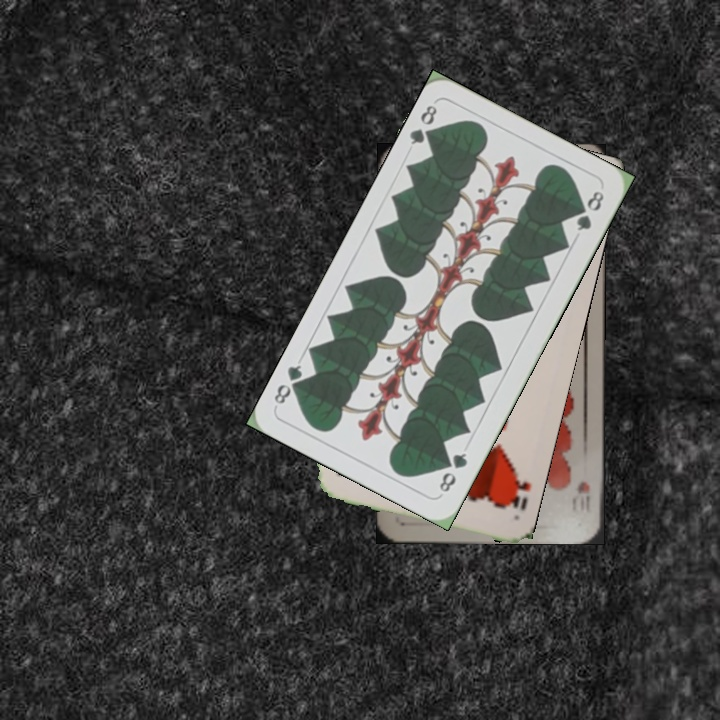G8: (405, 100, 441, 148), (435, 448, 470, 495)
H10: (573, 478, 592, 515)
HO: (502, 463, 533, 514)
